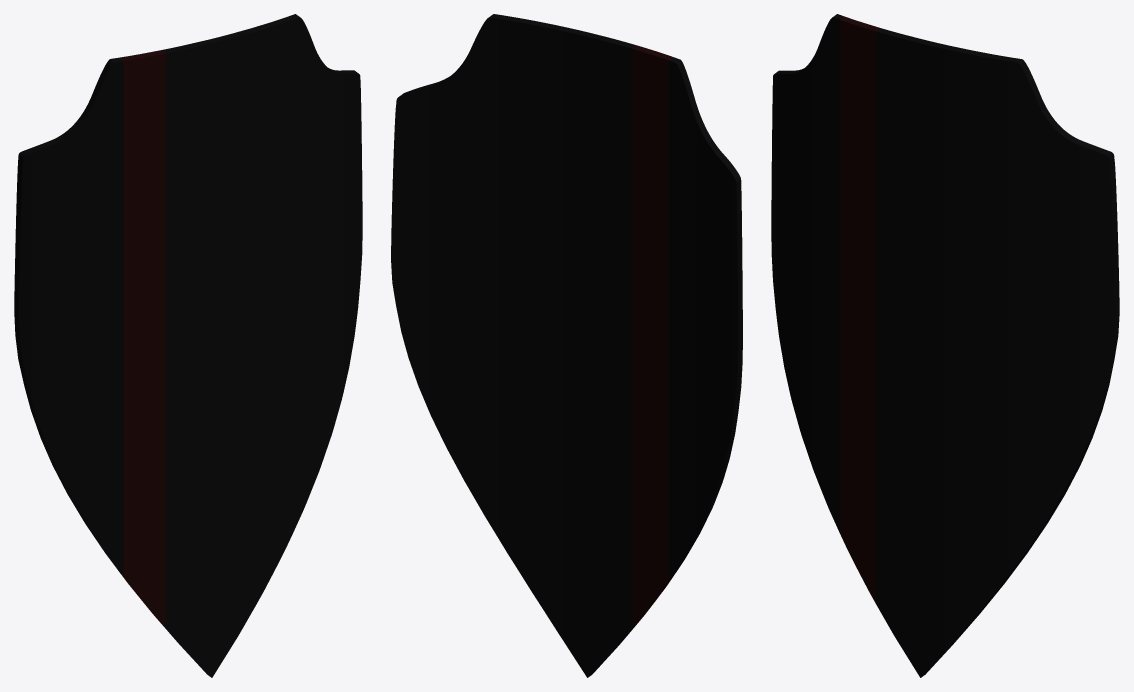
File: StripedShield_LessRound.fbx
3 views of the same model, side by side, from view 1: azimuth 30°, elevation 25°; view 2: azimuth 150°, elevation 25°; view 3: azimuth 330°, elevation 25° (orthographic).
Parts seen in each view (by area): view 1: StripedShield_LessRound; view 2: StripedShield_LessRound; view 3: StripedShield_LessRound.
Boxes of the visible parts, x1,y1,x2,y2 form: StripedShield_LessRound: (14, 14, 362, 677); StripedShield_LessRound: (391, 14, 742, 677); StripedShield_LessRound: (771, 14, 1119, 677).
Bounding box in the file's own units: 428 × 755 × 57.33.
